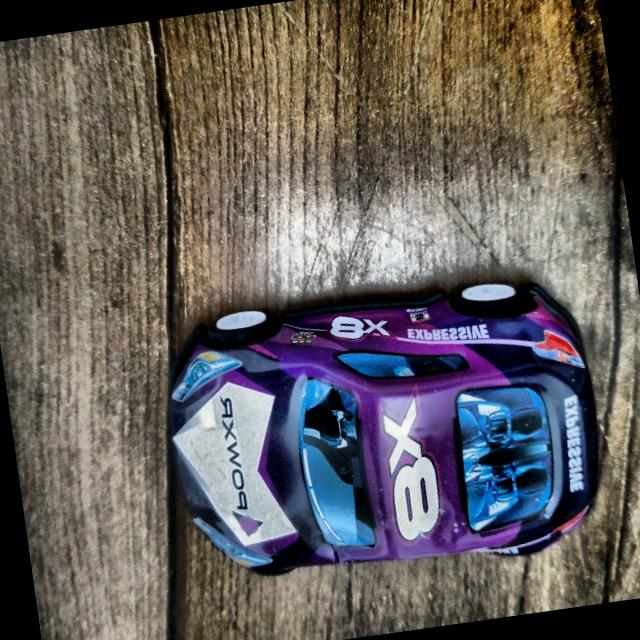Car: (153, 263, 612, 604)
